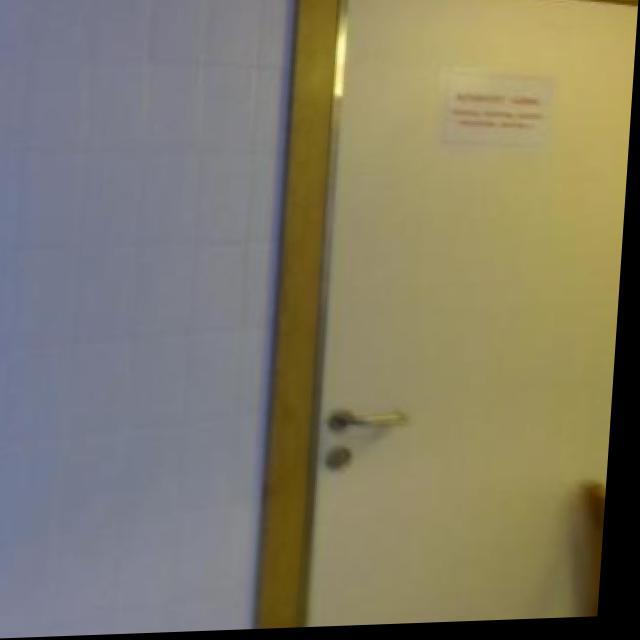door_handle: (335, 401, 423, 441)
